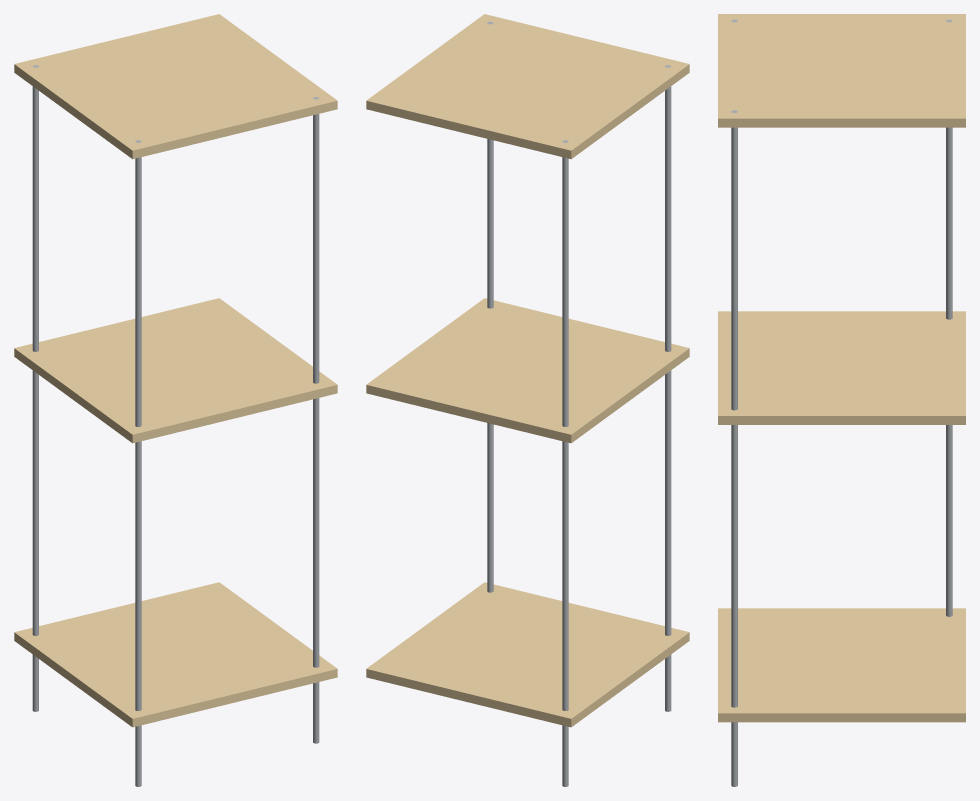
3 views of the same model, side by side, from view 1: azimuth 30°, elevation 25°; view 2: azimuth 150°, elevation 25°; view 3: azimuth 270°, elevation 25° (orthographic). The views are drawn at different scales.
Parts seen in each view (by area): view 1: shelf_3, shelf_1, shelf_2, rod_2, rod_1, rod_3; view 2: shelf_3, shelf_1, shelf_2, rod_3, rod_1, rod_2; view 3: shelf_3, shelf_1, shelf_2, rod_2, rod_3.
Part boxes in pixels (box(x1,y1,x2,y2)): shelf_3: box(14, 14, 337, 159); shelf_1: box(14, 582, 337, 727); shelf_2: box(14, 298, 337, 443); rod_2: box(313, 97, 319, 743); rod_1: box(135, 140, 141, 786); rod_3: box(32, 65, 38, 711); shelf_3: box(366, 14, 689, 159); shelf_1: box(366, 582, 689, 727); shelf_2: box(366, 298, 689, 443); rod_3: box(562, 140, 568, 786); rod_1: box(665, 65, 671, 711); rod_2: box(487, 21, 493, 592); shelf_3: box(718, 14, 965, 127); shelf_1: box(718, 608, 965, 722); shelf_2: box(718, 311, 965, 424); rod_2: box(731, 110, 737, 786); rod_3: box(946, 19, 952, 616).
Bounding box in the file's own units: 300 × 900 × 300.
